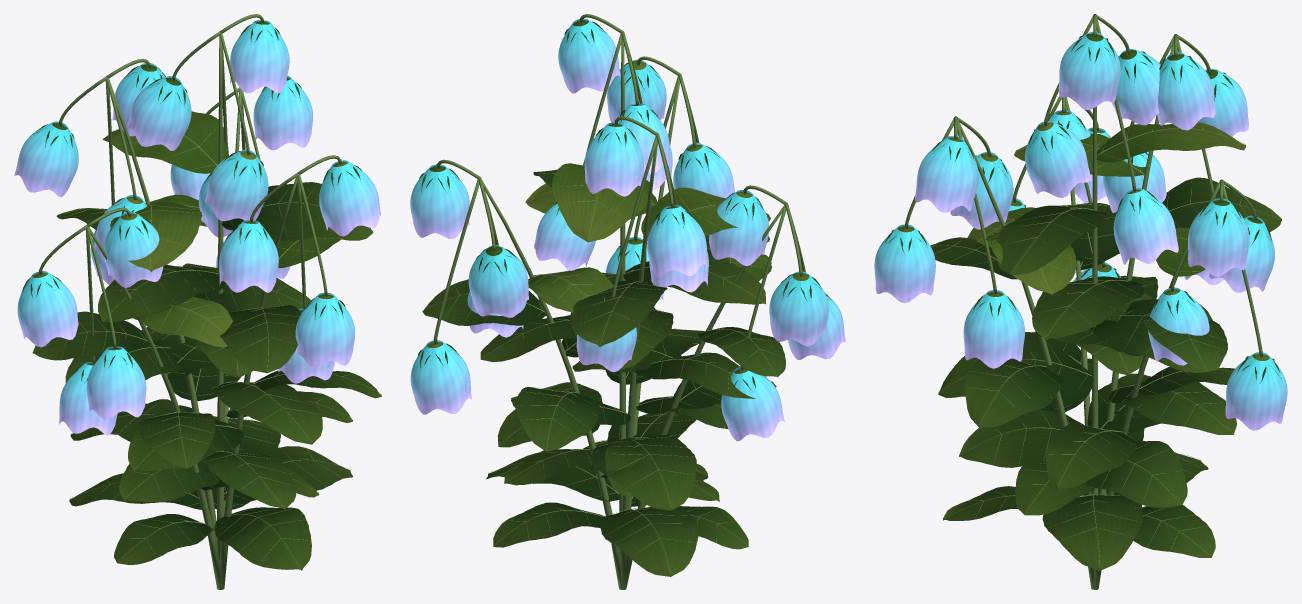
Rendered from bellflower-dream-10.glb.
3 views of the same model, side by side, from view 1: azimuth 30°, elevation 25°; view 2: azimuth 150°, elevation 25°; view 3: azimuth 270°, elevation 25° (orthographic). The views are drawn at different scales.
Parts seen in each view (by area): view 1: bellflower_dream_stage_10_leaf_veins.020, bellflower_dream_stage_10_bellflower_petal.020, bellflower_dream_stage_10_young_leaf.020, bellflower_dream_stage_10_stem_fibres.020, bellflower_dream_stage_10_raised_midveins.020; view 2: bellflower_dream_stage_10_leaf_veins.020, bellflower_dream_stage_10_bellflower_petal.020, bellflower_dream_stage_10_stem_fibres.020, bellflower_dream_stage_10_young_leaf.020, bellflower_dream_stage_10_raised_midveins.020; view 3: bellflower_dream_stage_10_leaf_veins.020, bellflower_dream_stage_10_bellflower_petal.020, bellflower_dream_stage_10_young_leaf.020, bellflower_dream_stage_10_stem_fibres.020, bellflower_dream_stage_10_raised_midveins.020.
Boxes of the visible parts, x1,y1,x2,y2 form: bellflower_dream_stage_10_leaf_veins.020: [21, 24, 381, 570]; bellflower_dream_stage_10_bellflower_petal.020: [14, 20, 380, 435]; bellflower_dream_stage_10_young_leaf.020: [32, 21, 360, 365]; bellflower_dream_stage_10_stem_fibres.020: [38, 14, 341, 589]; bellflower_dream_stage_10_raised_midveins.020: [33, 115, 380, 568]; bellflower_dream_stage_10_leaf_veins.020: [418, 21, 831, 576]; bellflower_dream_stage_10_bellflower_petal.020: [410, 18, 845, 441]; bellflower_dream_stage_10_stem_fibres.020: [433, 14, 805, 589]; bellflower_dream_stage_10_young_leaf.020: [427, 20, 809, 373]; bellflower_dream_stage_10_raised_midveins.020: [427, 163, 784, 574]; bellflower_dream_stage_10_leaf_veins.020: [885, 33, 1281, 570]; bellflower_dream_stage_10_bellflower_petal.020: [874, 32, 1287, 430]; bellflower_dream_stage_10_young_leaf.020: [897, 33, 1269, 360]; bellflower_dream_stage_10_stem_fibres.020: [904, 14, 1262, 589]; bellflower_dream_stage_10_raised_midveins.020: [931, 125, 1280, 564].
Size of the model in its own units: 0.4166 by 0.6453 by 0.4142.
Materials: 5 (3 with a texture image).
